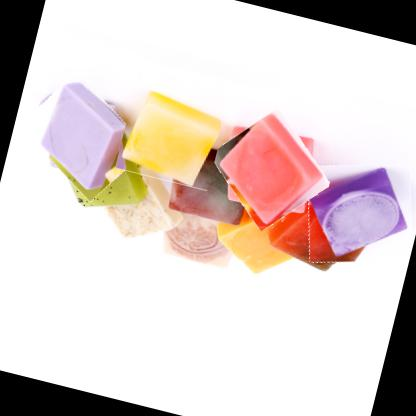soap: (15, 74, 152, 200), (204, 106, 335, 233), (293, 147, 415, 279), (115, 86, 229, 192)
